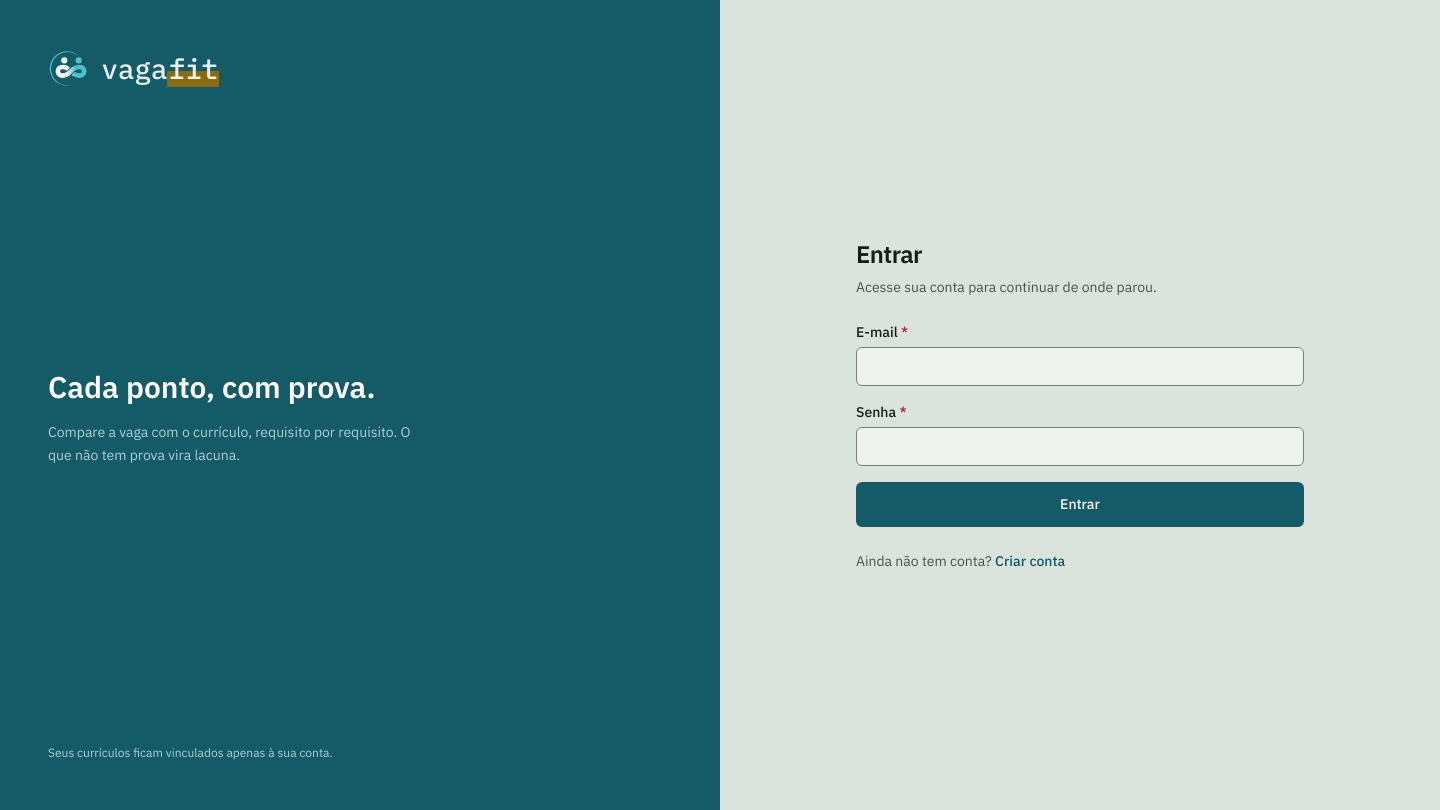
Test: LoginPage › mostra o erro da API e continua na tela
The width and height of the screenshot is (1440, 810).
Type "ana@vagafit.example" into the field labelled "E-mail *".
click(1080, 366); type("ana@vagafit.example")  # box x1=856 y1=346 x2=1304 y2=386
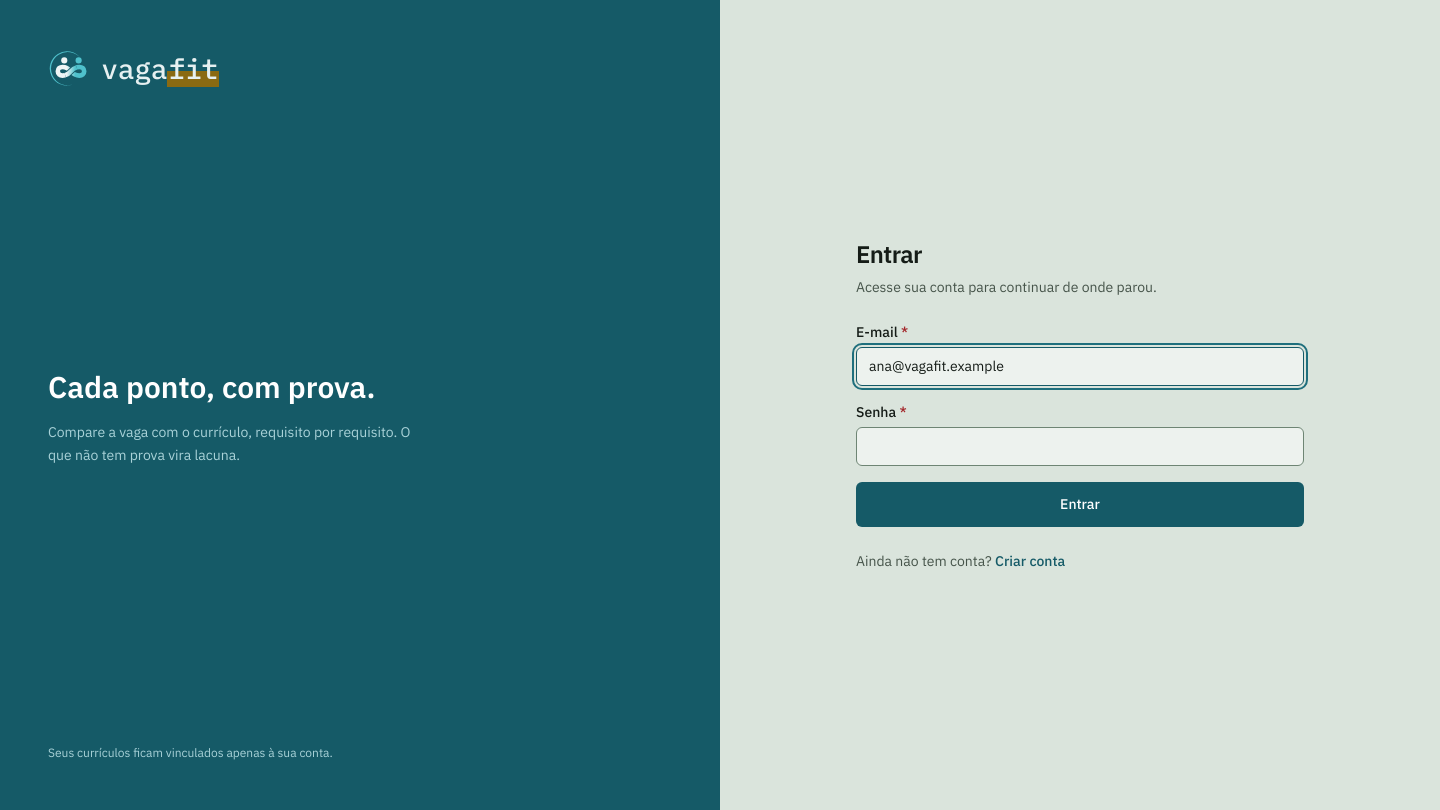
Type "errada" into the password field labelled "Senha *".
click(1080, 446); type("errada")  # box x1=856 y1=426 x2=1304 y2=466
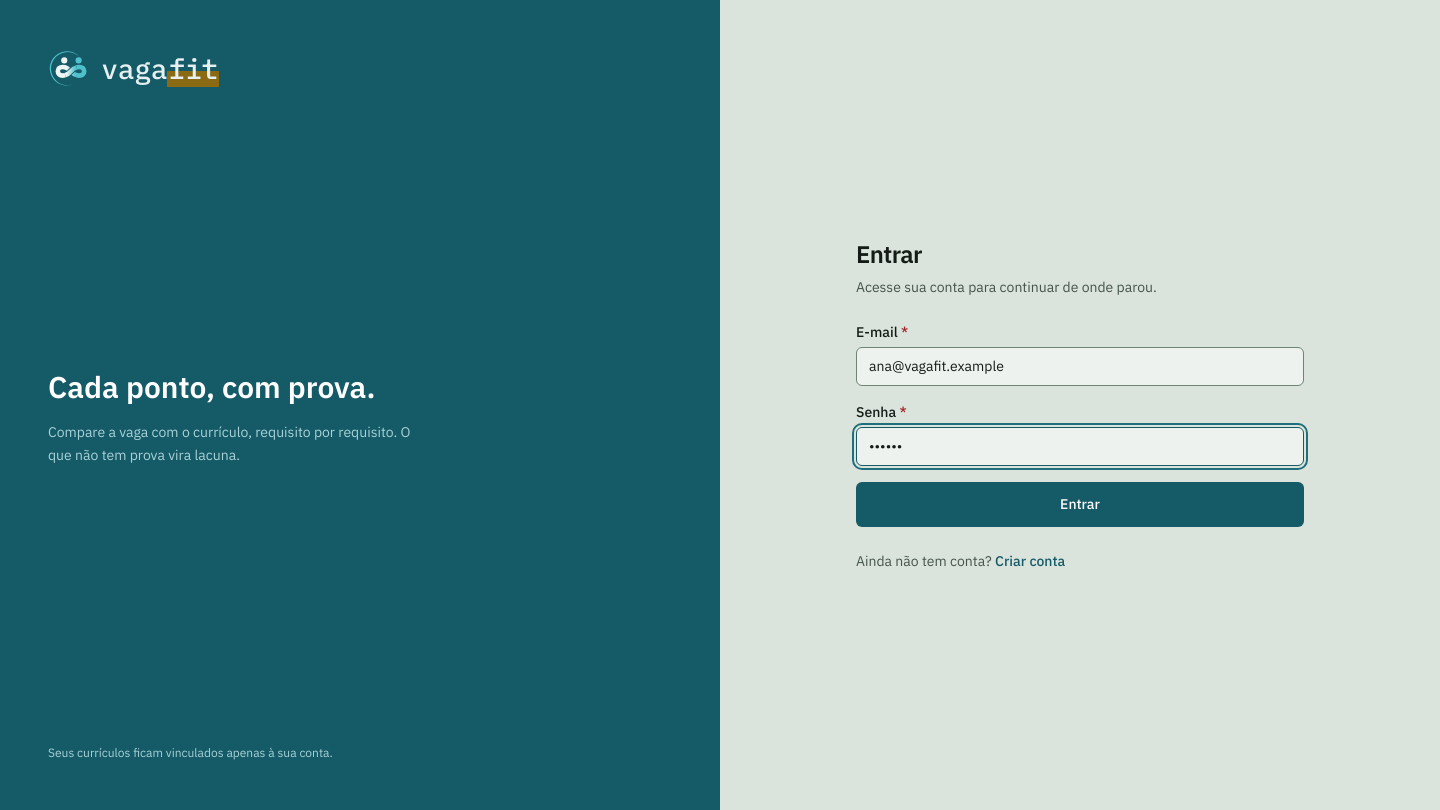
Click the button "Entrar".
click(1080, 504)  # box x1=856 y1=482 x2=1304 y2=526
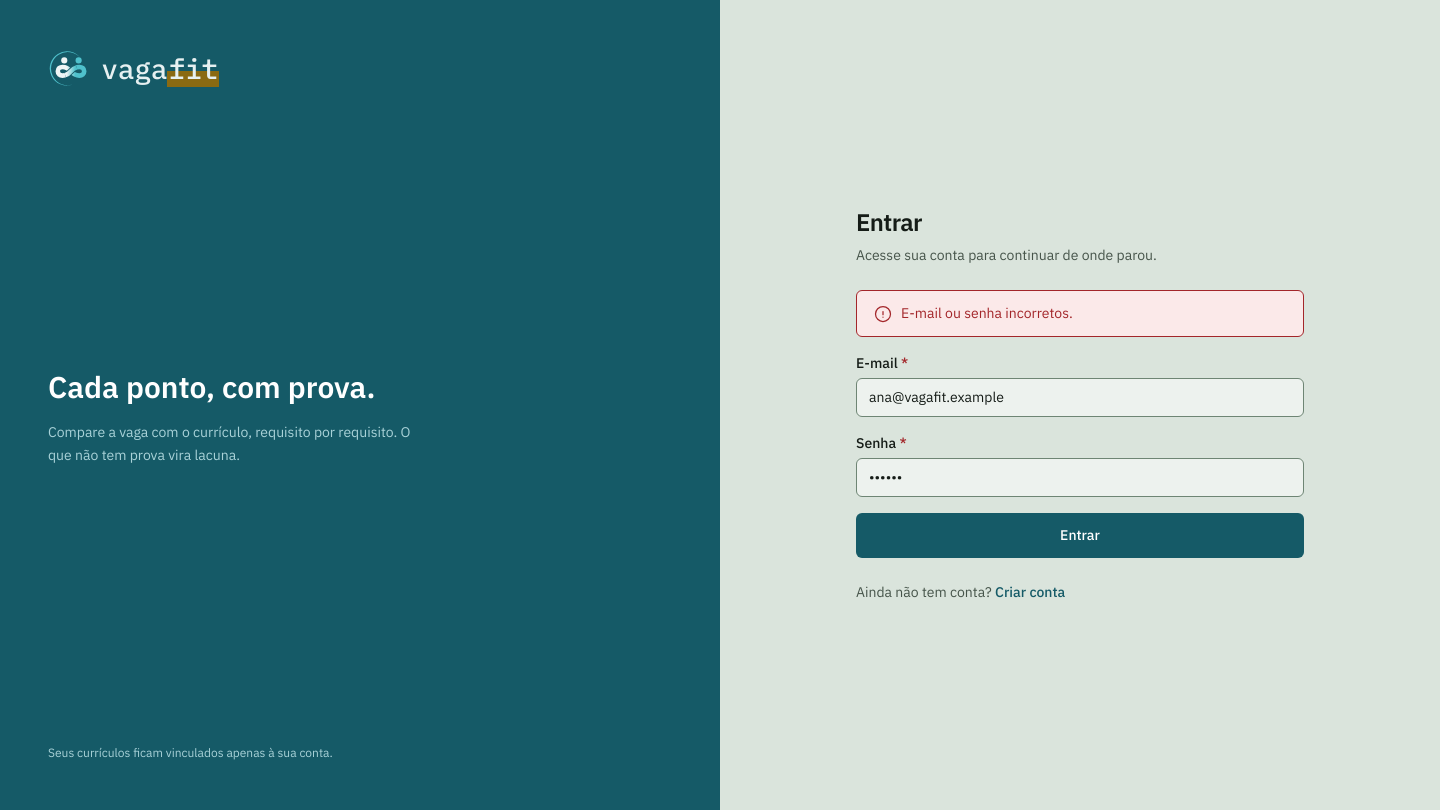
Check: the button "Entrar" is shown, box x1=856 y1=513 x2=1304 y2=558
Check: the text "E-mail ou senha incorretos." is shown, box x1=901 y1=304 x2=1073 y2=322
